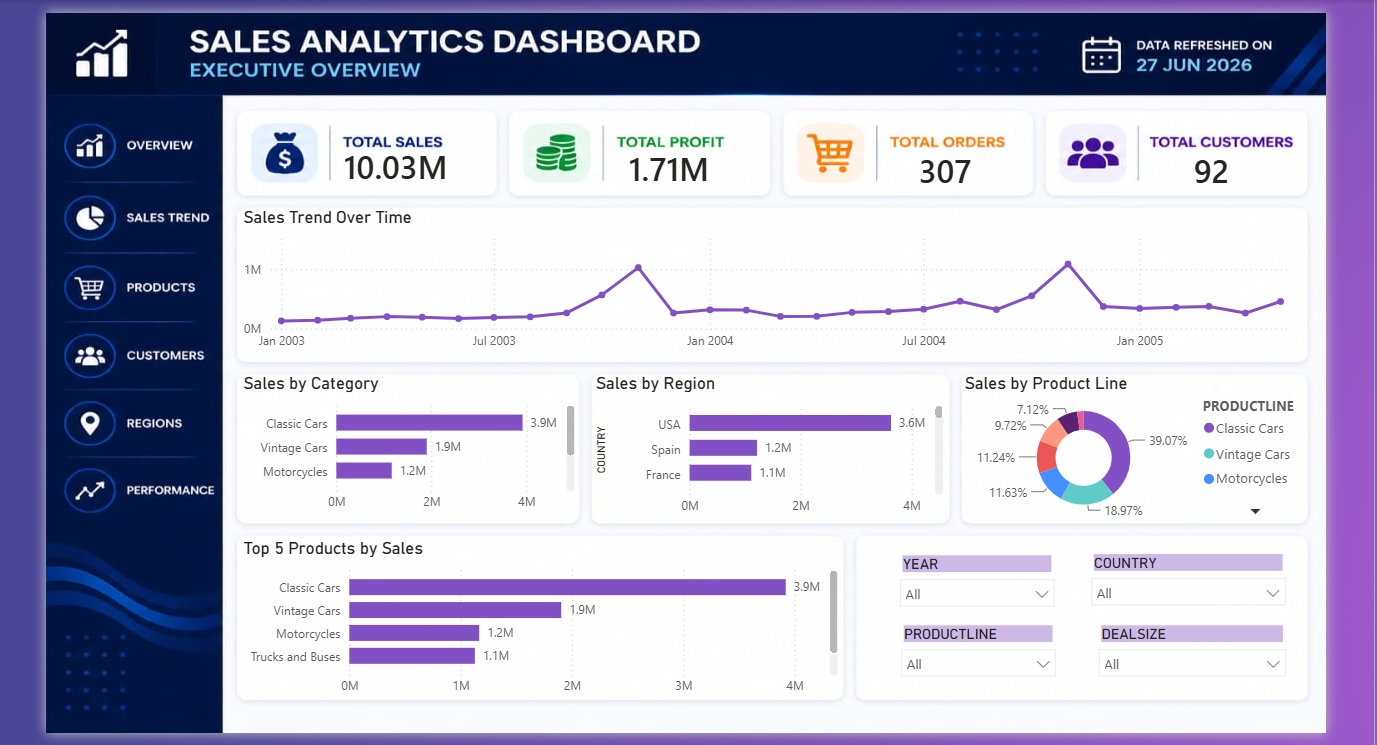

The page's visual inventory and layout, read from the dashboard file:
{"tool":"powerbi","page":{"name":"Page 1","canvas":[1280,720],"ordinal":0},"visuals":[{"type":"cardVisual","fields":{"Data":["sales_data_sample.Estimated Profit"]},"box":[553.8,120,145,68.8],"z":0},{"type":"cardVisual","fields":{"Data":["sales_data_sample.Total Orders"]},"box":[843.8,117.5,117.5,77.5],"z":1000},{"type":"cardVisual","fields":{"Data":["sales_data_sample.Total Customers"]},"box":[1118.8,117.5,95,75],"z":2000},{"type":"cardVisual","fields":{"Data":["sales_data_sample.Total Sales"]},"box":[268.8,117.5,175,67.5],"z":3000},{"type":"areaChart","title":"Sales  Trend Over Time","fields":{"Category":["sales_data_sample.ORDERDATE.Variation.Date Hierarchy.Year","sales_data_sample.ORDERDATE.Variation.Date Hierarchy.Month"],"Y":["sales_data_sample.Total Sales"]},"box":[193,194.2,1071.3,152],"z":4000},{"type":"clusteredBarChart","title":"Sales by Category","fields":{"Category":["sales_data_sample.PRODUCTLINE"],"Y":["sales_data_sample.Total Sales"]},"box":[192.5,360,341.2,147.5],"z":5000},{"type":"clusteredBarChart","title":"Top 5 Products by Sales","fields":{"Category":["sales_data_sample.PRODUCTLINE"],"Y":["Sum(sales_data_sample.SALES)"]},"box":[193,524.8,604.4,166.5],"z":6000},{"type":"donutChart","title":"Sales by Product Line","fields":{"Category":["sales_data_sample.PRODUCTLINE"],"Y":["Sum(sales_data_sample.SALES)"]},"box":[913.3,359.5,351.1,150.8],"z":7000},{"type":"slicer","fields":{"Values":["sales_data_sample.YEAR_ID"]},"box":[843.3,538.1,174.9,63.9],"z":8000},{"type":"slicer","fields":{"Values":["sales_data_sample.COUNTRY"]},"box":[1035.1,536.9,214.7,65.1],"z":9000},{"type":"slicer","fields":{"Values":["sales_data_sample.PRODUCTLINE"]},"box":[844.5,608,174.9,62.7],"z":10000},{"type":"slicer","fields":{"Values":["sales_data_sample.DEALSIZE"]},"box":[1042.4,608,207.5,73.6],"z":11000},{"type":"clusteredBarChart","title":"Sales by Region","fields":{"Category":["sales_data_sample.COUNTRY"],"Y":["sales_data_sample.Total Sales"]},"box":[545.3,359.5,357.1,150.8],"z":12000}]}

Visuals, with their boxes on the page's 1280x720 design canvas (x1, y1, x2, y2). These are canvas units, not pixel positions in the 1377x745 screenshot, which may show the page scaled, cropped or inside an application window:
cardVisual - sales_data_sample.Estimated Profit: 554/120/699/189
cardVisual - sales_data_sample.Total Orders: 844/118/961/195
cardVisual - sales_data_sample.Total Customers: 1119/118/1214/192
cardVisual - sales_data_sample.Total Sales: 269/118/444/185
"Sales  Trend Over Time" areaChart: 193/194/1264/346
"Sales by Category" clusteredBarChart: 192/360/534/508
"Top 5 Products by Sales" clusteredBarChart: 193/525/797/691
"Sales by Product Line" donutChart: 913/360/1264/510
slicer - sales_data_sample.YEAR_ID: 843/538/1018/602
slicer - sales_data_sample.COUNTRY: 1035/537/1250/602
slicer - sales_data_sample.PRODUCTLINE: 844/608/1019/671
slicer - sales_data_sample.DEALSIZE: 1042/608/1250/682
"Sales by Region" clusteredBarChart: 545/360/902/510
